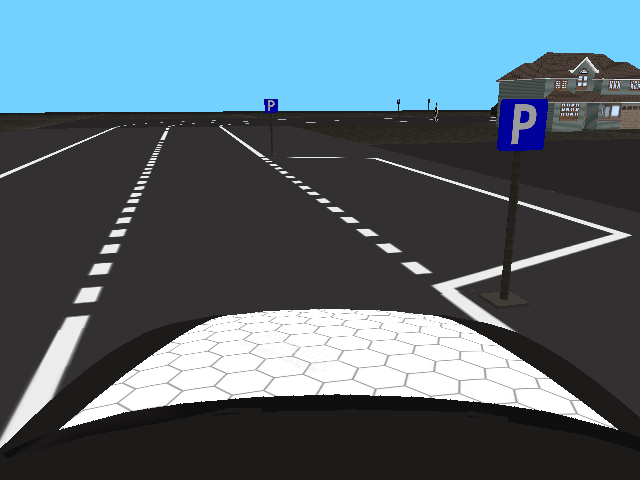parking: (497, 98, 548, 151)
